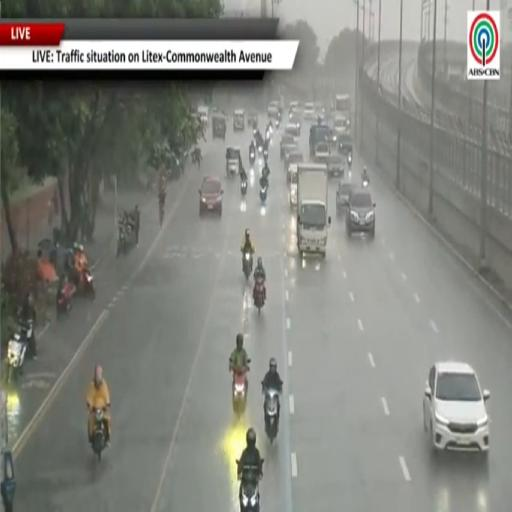bus: (334, 94, 351, 119)
car: (424, 361, 489, 455), (346, 187, 375, 237), (199, 176, 223, 216), (336, 182, 354, 216), (285, 149, 303, 182), (326, 152, 345, 178), (280, 133, 296, 159), (284, 144, 299, 169), (313, 141, 329, 163), (333, 116, 350, 134), (289, 112, 301, 136), (233, 109, 245, 131), (285, 123, 300, 139), (198, 106, 209, 125), (304, 103, 316, 120), (268, 101, 279, 119), (247, 111, 258, 127)
motorcycle: (6, 320, 34, 383), (240, 466, 260, 511), (264, 389, 279, 443), (91, 409, 106, 461), (57, 281, 76, 318), (117, 222, 136, 257), (233, 372, 247, 415), (78, 269, 95, 299), (254, 277, 264, 313), (243, 252, 253, 280), (260, 185, 267, 203), (266, 127, 272, 143), (249, 151, 255, 166), (241, 181, 247, 196), (263, 146, 268, 164), (362, 178, 370, 188), (347, 153, 352, 168), (258, 144, 263, 154), (253, 127, 257, 136), (276, 118, 279, 129)
truck: (297, 163, 331, 258)
